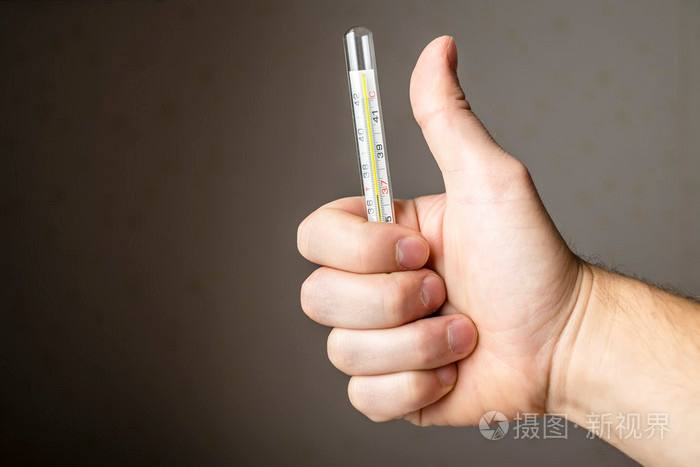no-phone: (286, 25, 608, 432)
